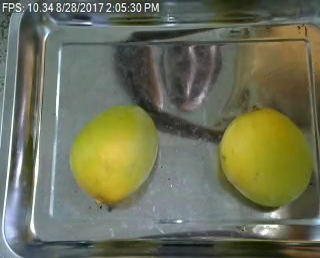Mango: (213, 102, 315, 208), (70, 97, 165, 207)
